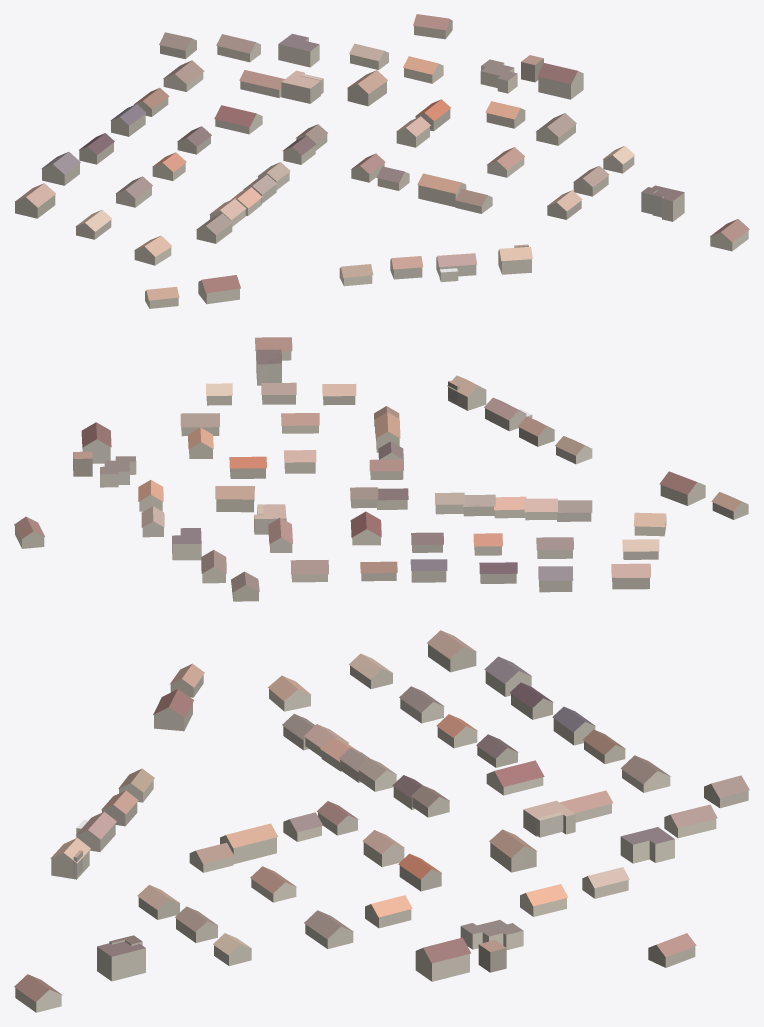
3 renders of one model, top to bottom at view 1: azimuth 30°, elevation 25°; view 2: azimuth 150°, elevation 25°; view 3: azimuth 270°, elevation 25°, orthographic. The views are drawn at different scales.
Parts seen in each view (by area): view 1: tuile; view 2: tuile; view 3: tuile.
Part boxes in pixels (x1,y1,x2,y2): tuile: (15, 14, 749, 308); tuile: (14, 337, 748, 601); tuile: (14, 630, 749, 1012).
Size of the model in its own units: 259 by 26.28 by 247.
